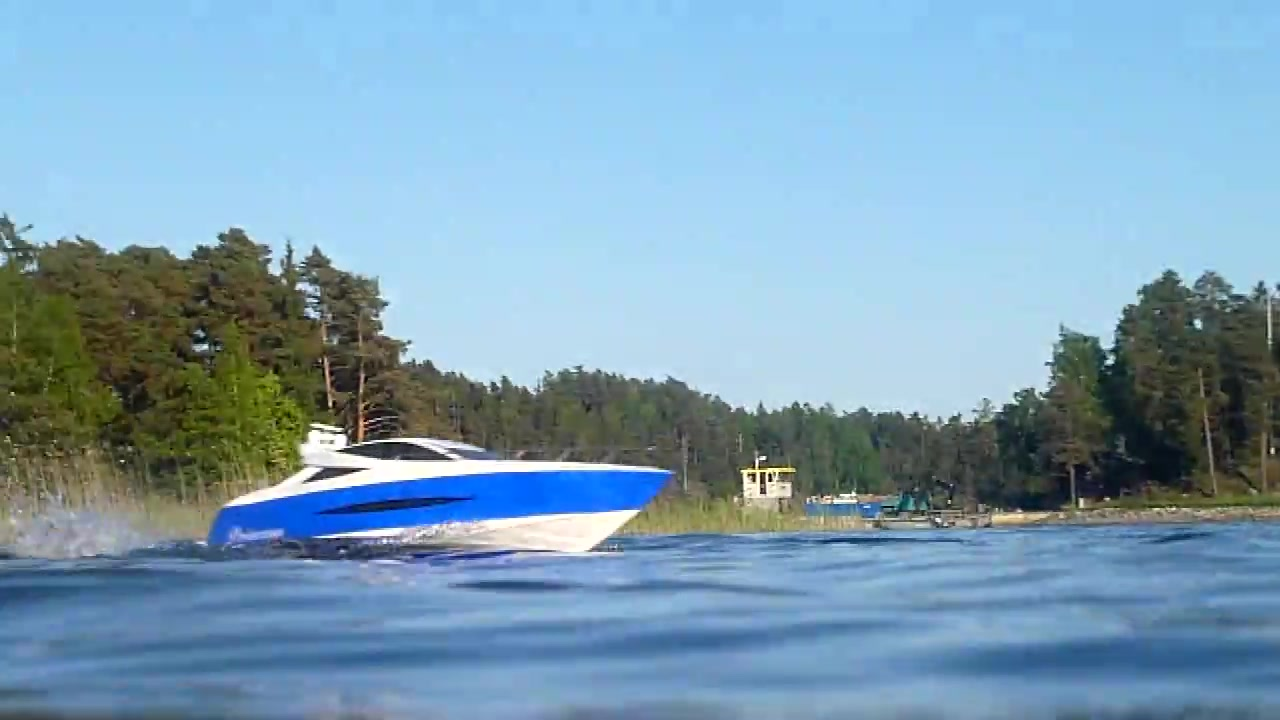boat: (205, 419, 674, 566)
